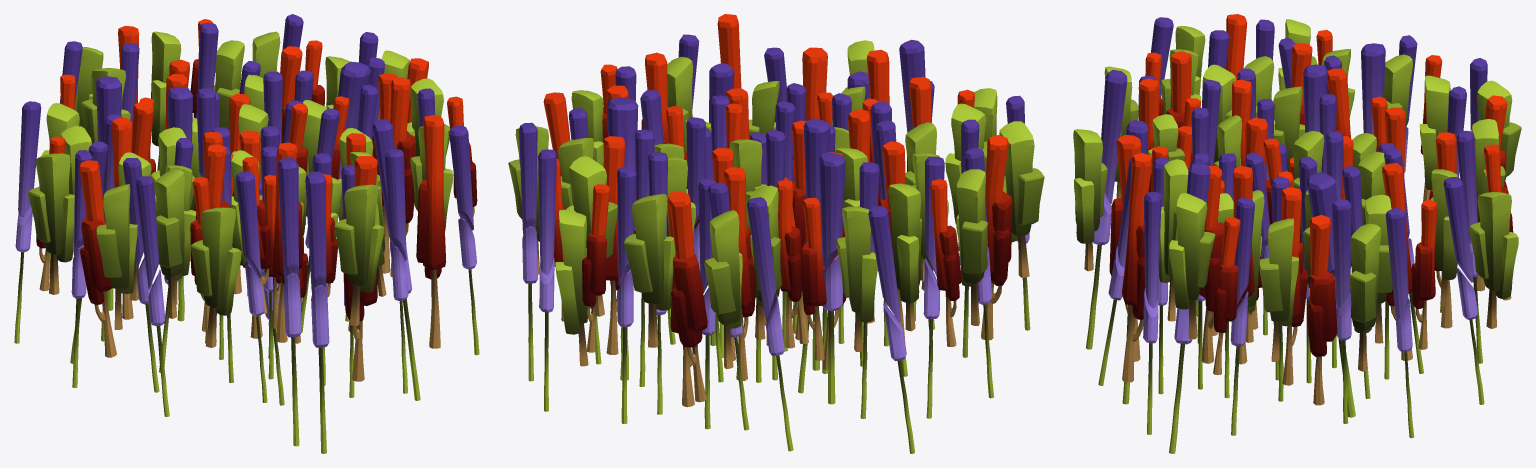
File: Environment_4.fbx
3 views of the same model, side by side, from view 1: azimuth 30°, elevation 25°; view 2: azimuth 150°, elevation 25°; view 3: azimuth 270°, elevation 25° (orthographic). The views are drawn at different scales.
Parts seen in each view (by area): view 1: EA04_Trees_Stoolids_01b_1__11_, EA04_Trees_Cuboids_01a_1__28_, EA04_Trees_Cuboids_01a_1__37_, EA04_Trees_Cuboids_01a_1__24_, EA04_Trees_Tire_01d_1__21_, EA04_Trees_Tire_01d_1__23_, EA04_Trees_Cuboids_01a_1__40_, EA04_Trees_Stoolids_01b_1__24_, EA04_Trees_Cuboids_01a_1__41_, EA04_Trees_Tire_01d_1__39_, EA04_Trees_Tire_01d_1__53_, EA04_Trees_Tire_01d_1__55_ (+72 smaller); view 2: EA04_Trees_Cuboids_01a_1__32_, EA04_Trees_Stoolids_01b_1__20_, EA04_Trees_Tire_01d_1__26_, EA04_Trees_Cuboids_01a_1__35_, EA04_Trees_Cuboids_01a_1__40_, EA04_Trees_Cuboids_01a_1__38_, EA04_Trees_Stoolids_01b_1__24_, EA04_Trees_Cuboids_01a_1__39_, EA04_Trees_Cuboids_01a_1__37_, EA04_Trees_Cuboids_01a_1__33_, EA04_Trees_Tire_01d_1__51_, EA04_Trees_Tire_01d_1__53_ (+67 smaller); view 3: EA04_Trees_Cuboids_01a_1__33_, EA04_Trees_Cuboids_01a_1__25_, EA04_Trees_Stoolids_01b_1__11_, EA04_Trees_Stoolids_01b_1__16_, EA04_Trees_Cuboids_01a_1__23_, EA04_Trees_Cuboids_01a_1__24_, EA04_Trees_Tire_01d_1__21_, EA04_Trees_Cuboids_01a_1__30_, EA04_Trees_Tire_01d_1__47_, EA04_Trees_Tire_01d_1__38_, EA04_Trees_Tire_01d_1__49_, EA04_Trees_Tire_01d_1__48_ (+74 smaller).
Boxes of the visible parts, left/top/right/bottom form: EA04_Trees_Stoolids_01b_1__11_: left=416, top=114, right=446, bottom=348; EA04_Trees_Cuboids_01a_1__28_: left=190, top=207, right=241, bottom=347; EA04_Trees_Cuboids_01a_1__37_: left=27, top=153, right=74, bottom=294; EA04_Trees_Cuboids_01a_1__24_: left=334, top=184, right=384, bottom=326; EA04_Trees_Tire_01d_1__21_: left=278, top=157, right=301, bottom=446; EA04_Trees_Tire_01d_1__23_: left=305, top=171, right=329, bottom=453; EA04_Trees_Cuboids_01a_1__40_: left=96, top=184, right=137, bottom=329; EA04_Trees_Stoolids_01b_1__24_: left=79, top=160, right=116, bottom=357; EA04_Trees_Cuboids_01a_1__41_: left=155, top=169, right=184, bottom=318; EA04_Trees_Tire_01d_1__39_: left=384, top=149, right=408, bottom=393; EA04_Trees_Tire_01d_1__53_: left=14, top=101, right=41, bottom=343; EA04_Trees_Tire_01d_1__55_: left=135, top=176, right=169, bottom=416; EA04_Trees_Cuboids_01a_1__32_: left=623, top=194, right=675, bottom=347; EA04_Trees_Stoolids_01b_1__20_: left=669, top=193, right=707, bottom=402; EA04_Trees_Tire_01d_1__26_: left=819, top=152, right=845, bottom=404; EA04_Trees_Cuboids_01a_1__35_: left=704, top=210, right=742, bottom=368; EA04_Trees_Cuboids_01a_1__40_: left=999, top=121, right=1044, bottom=277; EA04_Trees_Cuboids_01a_1__38_: left=836, top=206, right=877, bottom=351; EA04_Trees_Stoolids_01b_1__24_: left=981, top=135, right=1012, bottom=340; EA04_Trees_Cuboids_01a_1__39_: left=888, top=183, right=921, bottom=331; EA04_Trees_Cuboids_01a_1__37_: left=956, top=169, right=987, bottom=325; EA04_Trees_Cuboids_01a_1__33_: left=555, top=209, right=591, bottom=366; EA04_Trees_Tire_01d_1__51_: left=747, top=197, right=793, bottom=451; EA04_Trees_Tire_01d_1__53_: left=868, top=205, right=914, bottom=453; EA04_Trees_Cuboids_01a_1__33_: left=1468, top=192, right=1518, bottom=328; EA04_Trees_Cuboids_01a_1__25_: left=1169, top=193, right=1215, bottom=339; EA04_Trees_Stoolids_01b_1__11_: left=1122, top=153, right=1152, bottom=382; EA04_Trees_Stoolids_01b_1__16_: left=1306, top=215, right=1337, bottom=405; EA04_Trees_Cuboids_01a_1__23_: left=1259, top=218, right=1298, bottom=361; EA04_Trees_Cuboids_01a_1__24_: left=1073, top=129, right=1107, bottom=271; EA04_Trees_Tire_01d_1__21_: left=1086, top=69, right=1127, bottom=349; EA04_Trees_Cuboids_01a_1__30_: left=1349, top=223, right=1381, bottom=371; EA04_Trees_Tire_01d_1__47_: left=1385, top=208, right=1414, bottom=438; EA04_Trees_Tire_01d_1__38_: left=1143, top=191, right=1161, bottom=434; EA04_Trees_Tire_01d_1__49_: left=1443, top=177, right=1484, bottom=404; EA04_Trees_Tire_01d_1__48_: left=1332, top=199, right=1351, bottom=423.
Bounding box in the file's own units: 27004 × 19080 × 24938.
1 material, 1 textured.
